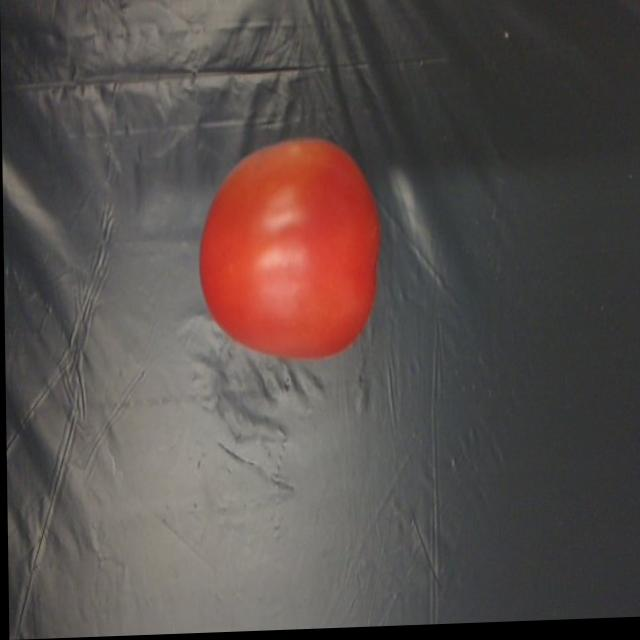kirmizi: (196, 132, 387, 368)
